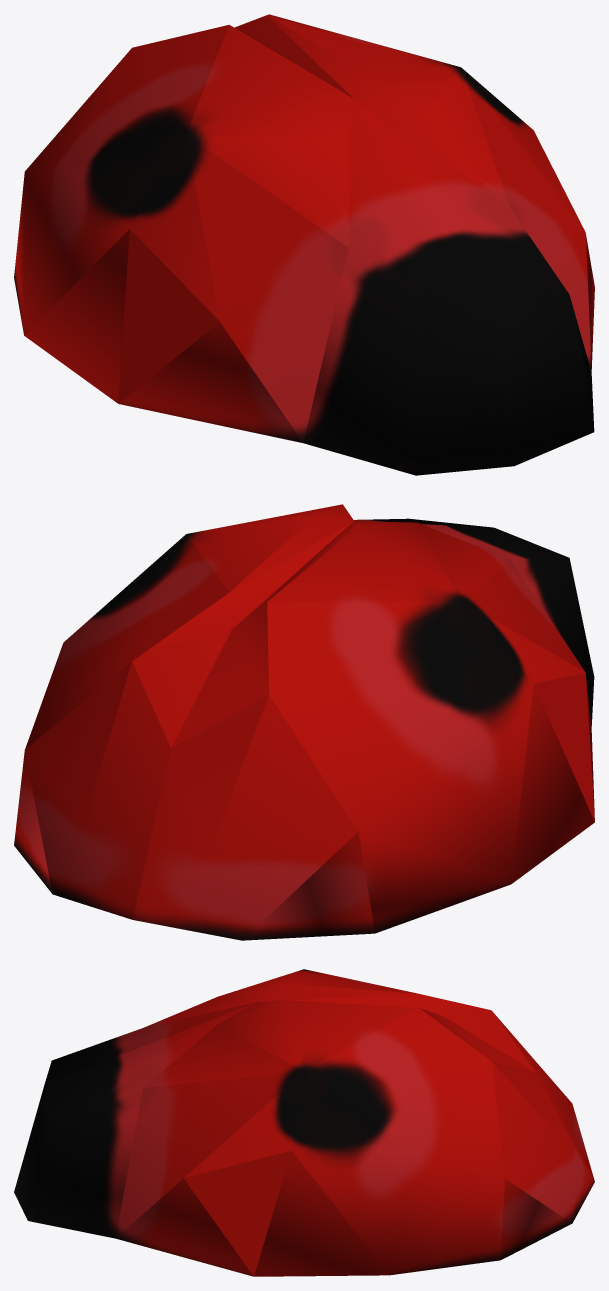
The model's file is SM_Ladybug.fbx.
3 renders of one model, top to bottom at view 1: azimuth 30°, elevation 25°; view 2: azimuth 150°, elevation 25°; view 3: azimuth 270°, elevation 25°, orthographic. The views are drawn at different scales.
Parts seen in each view (by area): view 1: Ladybug; view 2: Ladybug; view 3: Ladybug.
Part boxes in pixels (x1,y1,x2,y2): Ladybug: [14, 14, 594, 475]; Ladybug: [14, 504, 594, 940]; Ladybug: [14, 969, 594, 1276].
Size of the model in its own units: 200 by 109 by 271.
1 material, 1 textured.
